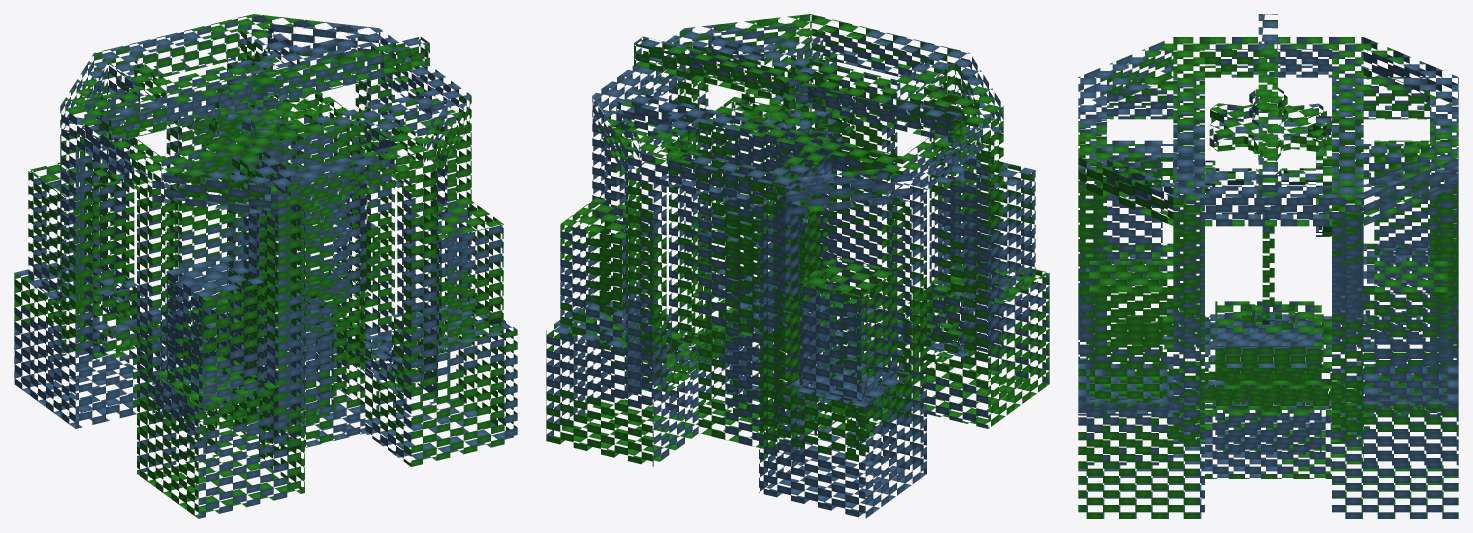
File: tier1extractor.obj
3 renders of one model, left to right at view 1: azimuth 30°, elevation 25°; view 2: azimuth 150°, elevation 25°; view 3: azimuth 270°, elevation 25°, orthographic. The views are drawn at different scales.
Parts seen in each view (by area): view 1: Multi_UV_Object_Cylinder.021; view 2: Multi_UV_Object_Cylinder.021; view 3: Multi_UV_Object_Cylinder.021.
Part boxes in pixels (x1=…): Multi_UV_Object_Cylinder.021: x1=14, y1=14, x2=517, y2=518; Multi_UV_Object_Cylinder.021: x1=546, y1=14, x2=1049, y2=518; Multi_UV_Object_Cylinder.021: x1=1078, y1=14, x2=1458, y2=518.
Bounding box in the file's own units: 3 × 3 × 3.
